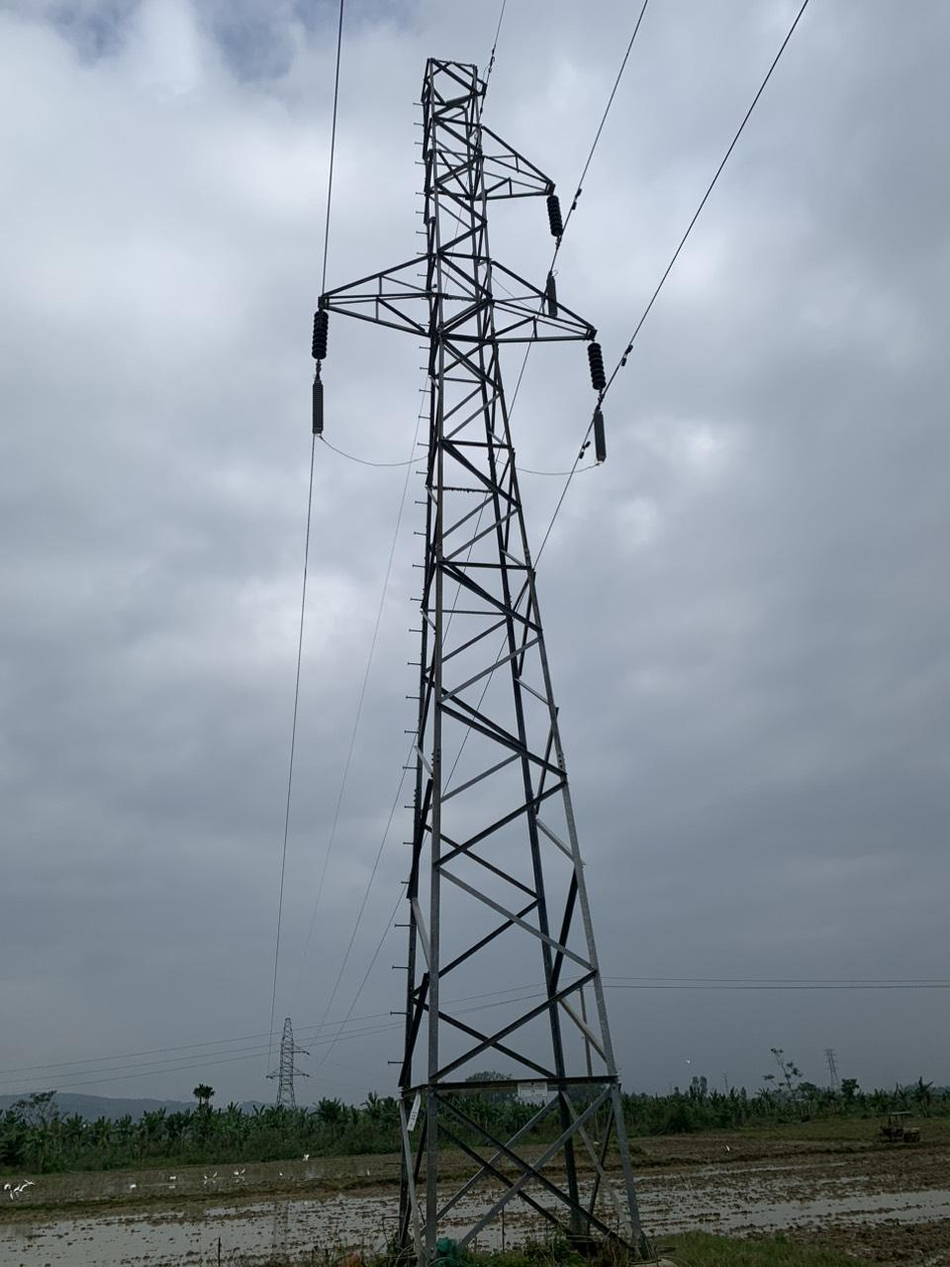power_tower: (299, 51, 657, 1247)
